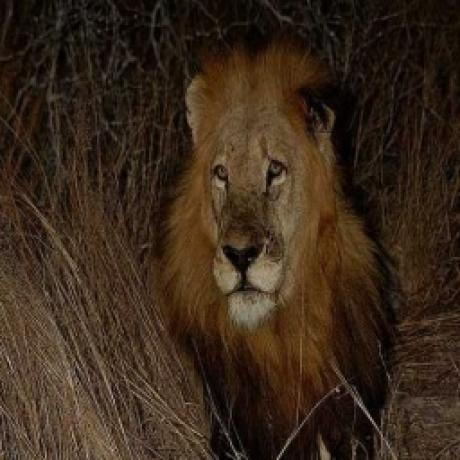Lion: (154, 26, 396, 460)
